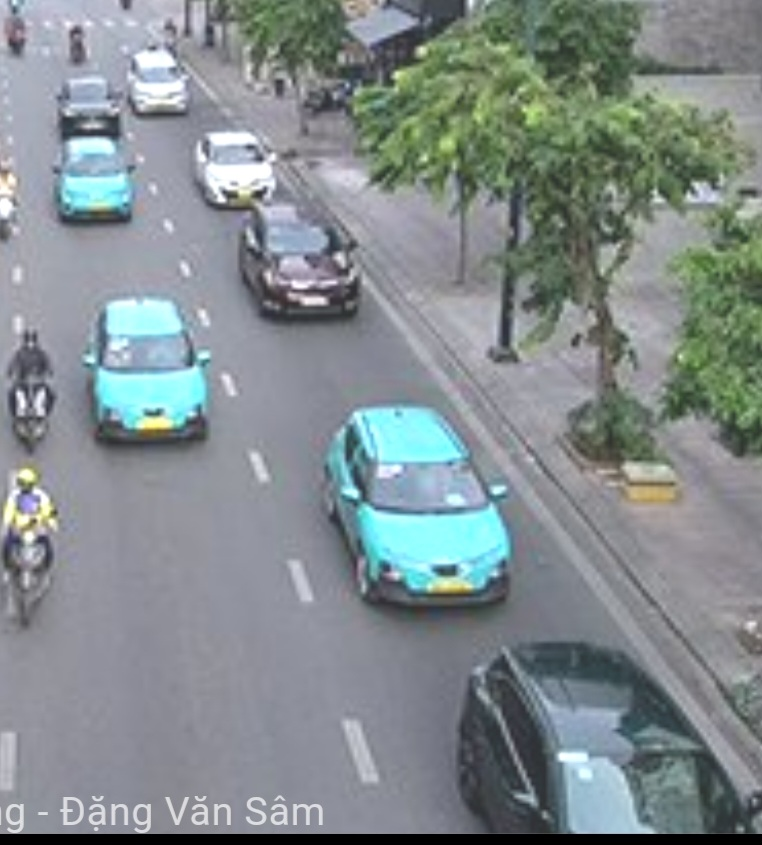car: (459, 643, 754, 834), (320, 401, 513, 605), (82, 300, 208, 442), (240, 203, 362, 321), (55, 137, 140, 226), (194, 130, 276, 210), (128, 52, 192, 117), (57, 74, 122, 134)
